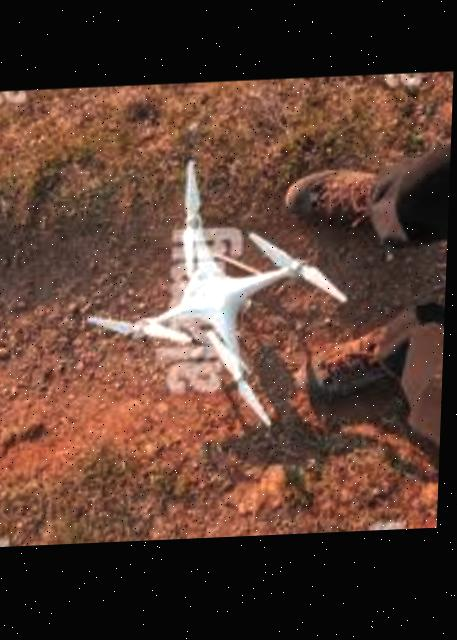drone: (111, 169, 362, 435)
